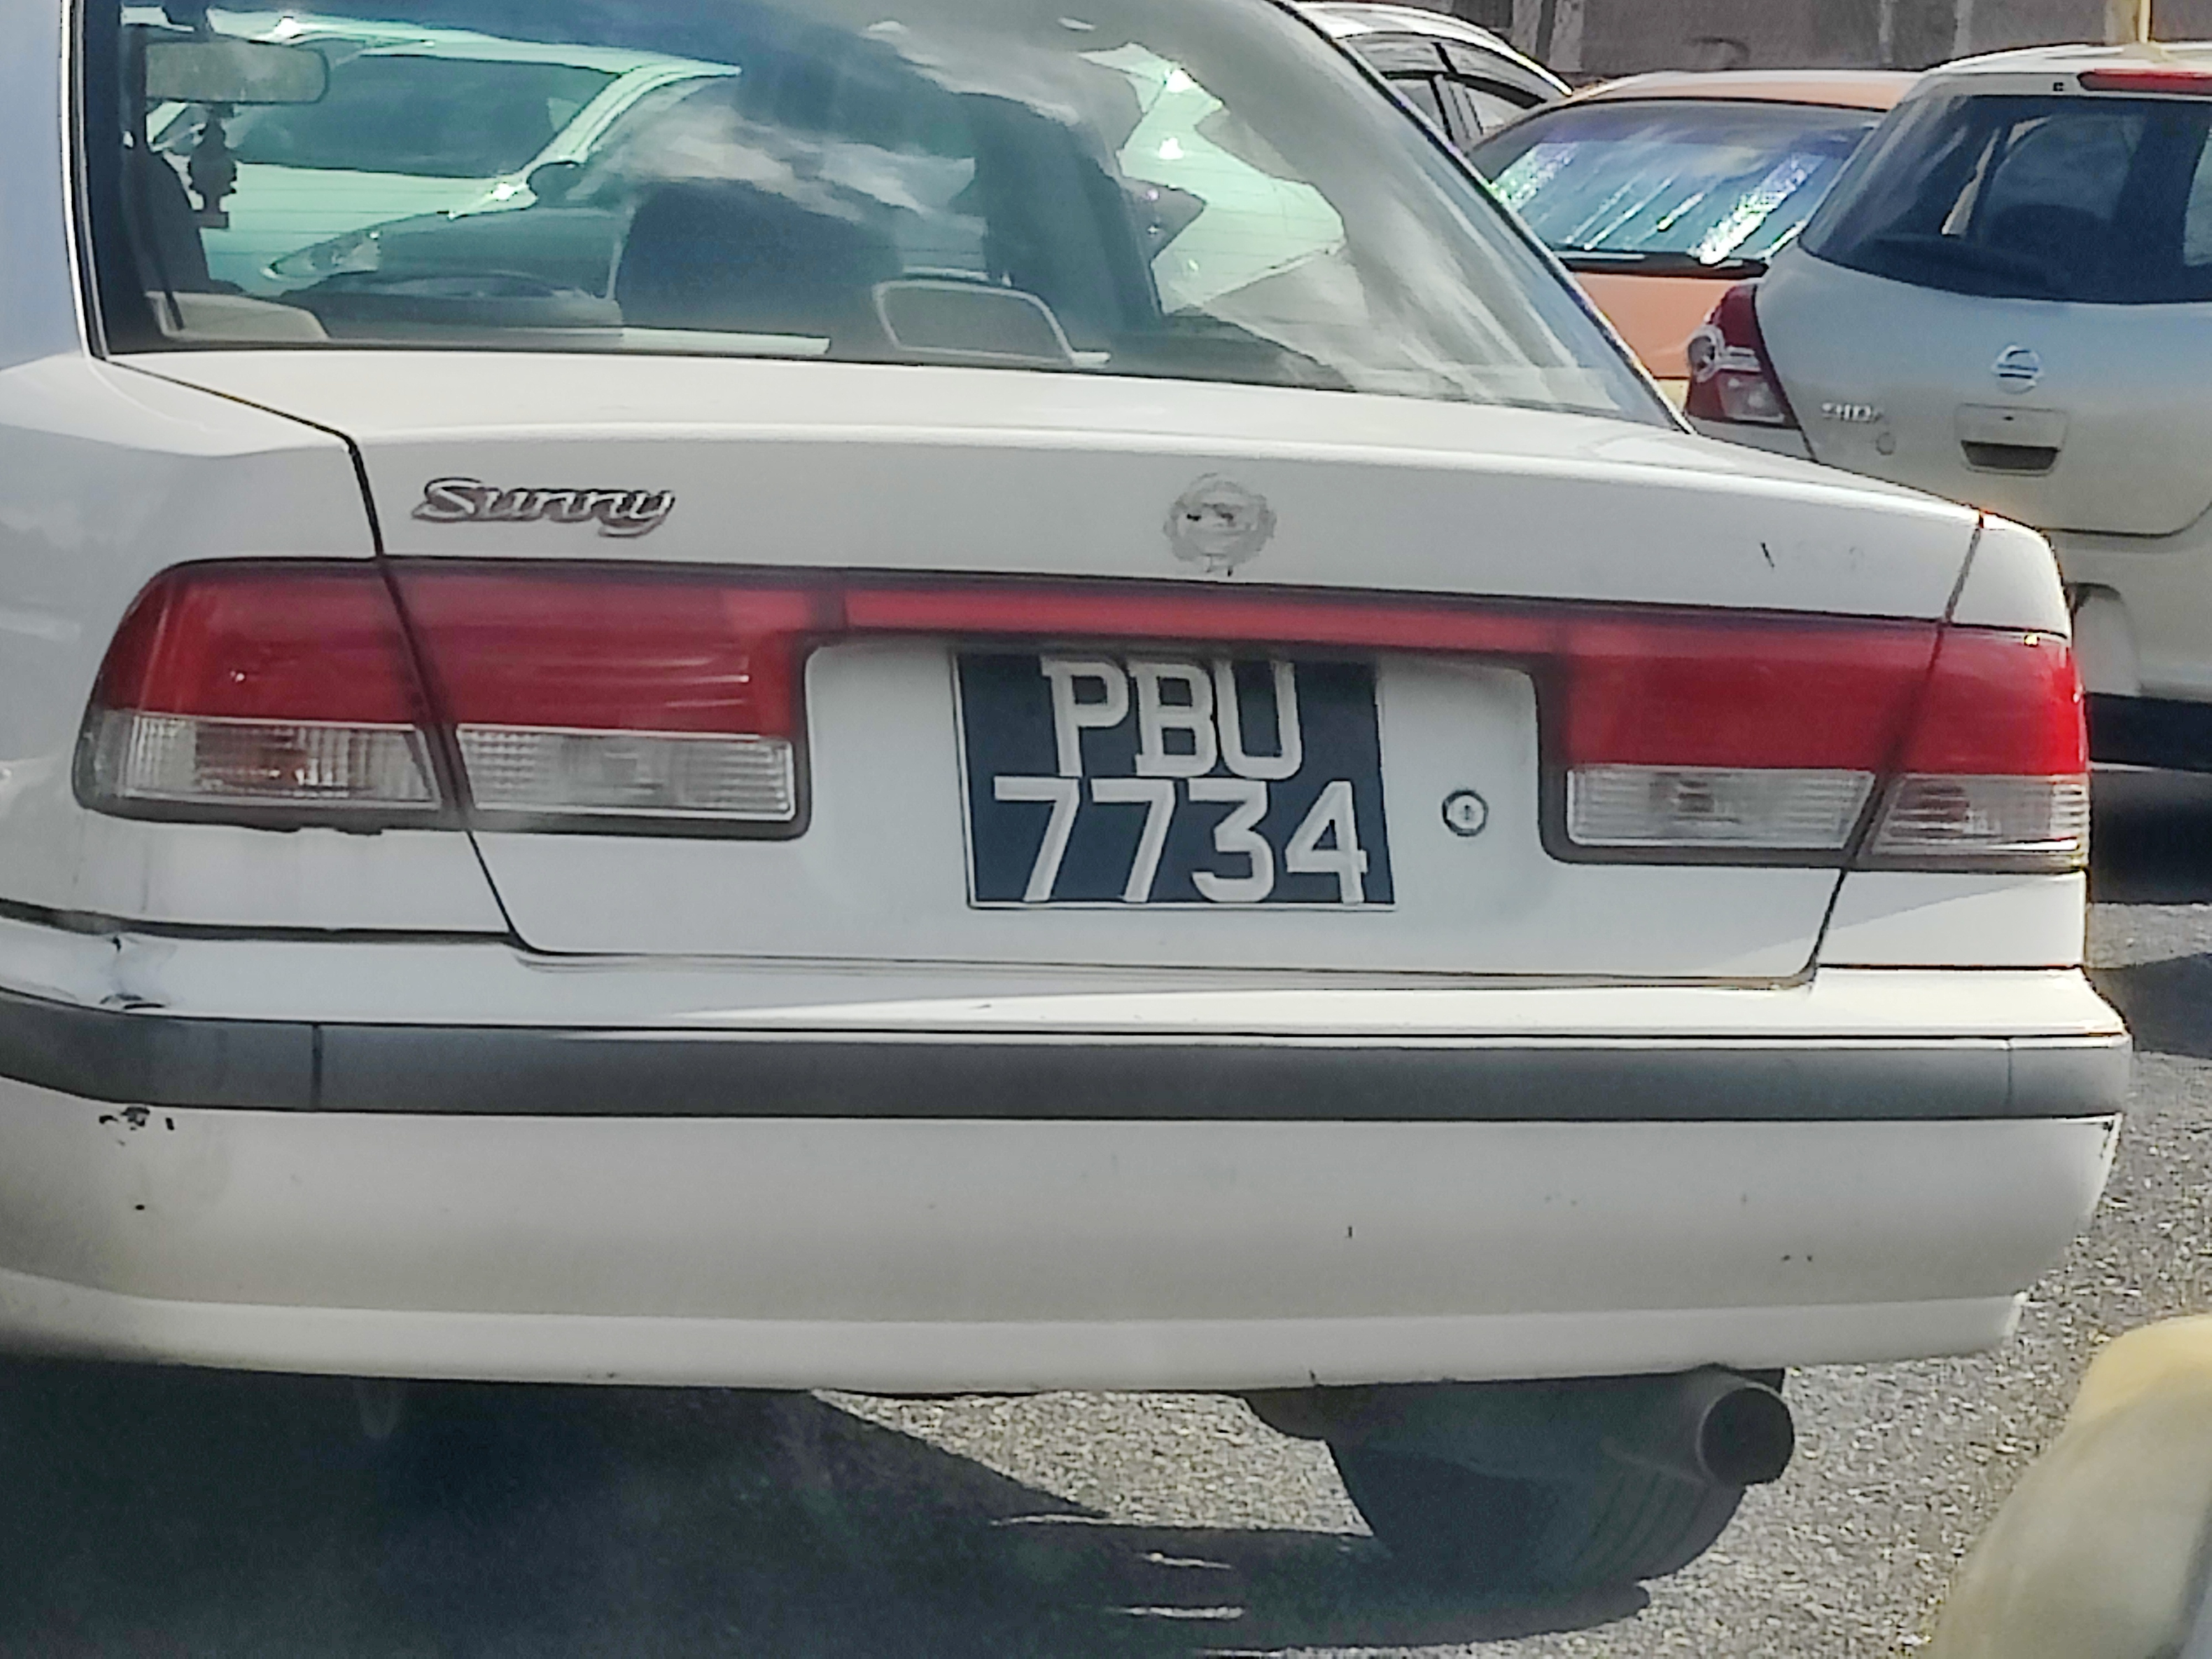License-Plate: (972, 654, 1377, 907)
